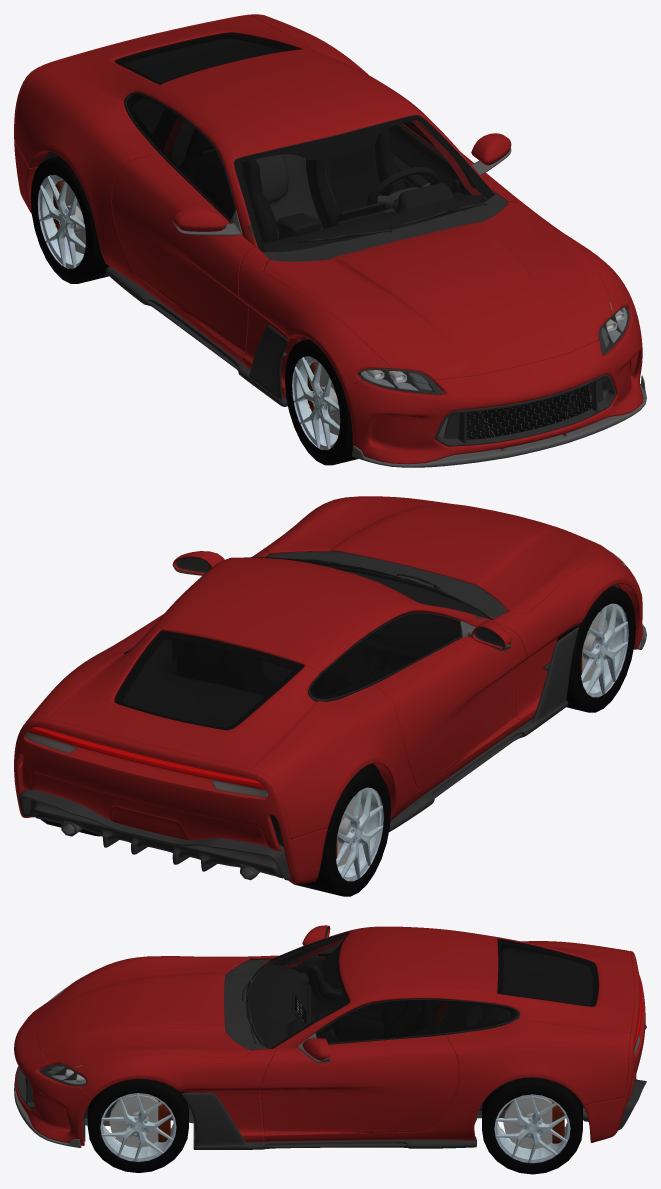
Rendered from sport-coupe-lod0.glb.
3 views of the same model, one above another, from view 1: azimuth 30°, elevation 25°; view 2: azimuth 150°, elevation 25°; view 3: azimuth 270°, elevation 25° (orthographic). The views are drawn at different scales.
Visible parts, largest first — view 1: body, hood, glass-windshield, front-bumper, door.r, side-fender.r, interior-roof-rear-trim, trunk, seat-back-01, glass-rear, dashboard-base, side-fender-aero.r (+22 smaller); view 2: body, rear-bumper, hood, trunk, door.r, glass-rear, side-fender.r, rear-diffusor-v2, interior-roof-rear-trim, dashboard-base, window-front.r, side-fender-aero.r (+14 smaller); view 3: body, hood, door.l, side-fender.l, glass-windshield, trunk, glass-rear, interior-roof-rear-trim, front-bumper, side-fender-aero.l, dashboard-base, window-front.l (+20 smaller).
Part boxes in pixels (bbox=[...]): body: bbox=[15, 15, 495, 363]; hood: bbox=[263, 201, 613, 380]; glass-windshield: bbox=[234, 115, 494, 251]; front-bumper: bbox=[343, 314, 643, 464]; door.r: bbox=[111, 153, 254, 356]; side-fender.r: bbox=[238, 246, 391, 398]; interior-roof-rear-trim: bbox=[124, 39, 490, 232]; trunk: bbox=[47, 15, 313, 105]; seat-back-01: bbox=[306, 129, 406, 228]; glass-rear: bbox=[114, 32, 302, 84]; dashboard-base: bbox=[263, 183, 488, 251]; side-fender-aero.r: bbox=[105, 266, 288, 406]; body: bbox=[19, 557, 520, 839]; rear-bumper: bbox=[14, 718, 327, 883]; hood: bbox=[263, 496, 612, 613]; trunk: bbox=[47, 628, 319, 768]; door.r: bbox=[374, 622, 527, 789]; glass-rear: bbox=[114, 630, 304, 730]; side-fender.r: bbox=[492, 553, 637, 728]; rear-diffusor-v2: bbox=[18, 789, 290, 880]; interior-roof-rear-trim: bbox=[123, 640, 351, 727]; dashboard-base: bbox=[347, 571, 488, 671]; window-front.r: bbox=[353, 612, 461, 681]; side-fender-aero.r: bbox=[389, 627, 578, 831]; body: bbox=[116, 926, 630, 1141]; hood: bbox=[37, 956, 250, 1068]; door.l: bbox=[260, 1035, 458, 1135]; side-fender.l: bbox=[72, 1048, 275, 1142]; glass-windshield: bbox=[245, 932, 349, 1048]; trunk: bbox=[495, 937, 634, 1032]; glass-rear: bbox=[497, 938, 598, 1006]; interior-roof-rear-trim: bbox=[267, 936, 592, 1053]; front-bumper: bbox=[14, 1001, 92, 1145]; side-fender-aero.l: bbox=[181, 1092, 476, 1149]; dashboard-base: bbox=[246, 964, 311, 1081]; window-front.l: bbox=[316, 998, 448, 1042].
Size of the model in its own units: 2.18 by 1.29 by 4.52.
Materials: 19 (7 with a texture image).
